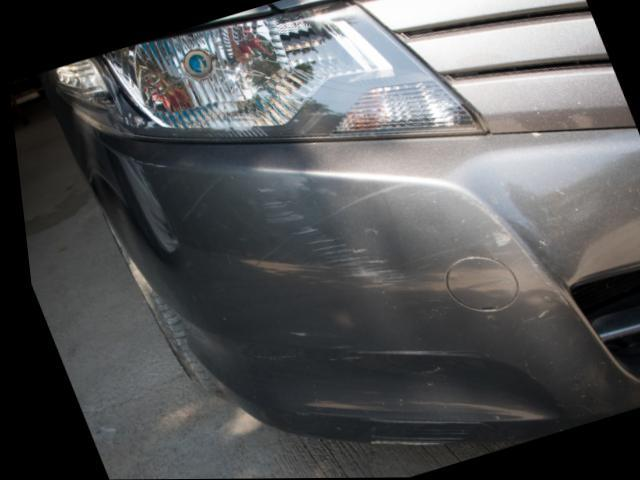scratch: (252, 184, 400, 288), (354, 416, 467, 448)
